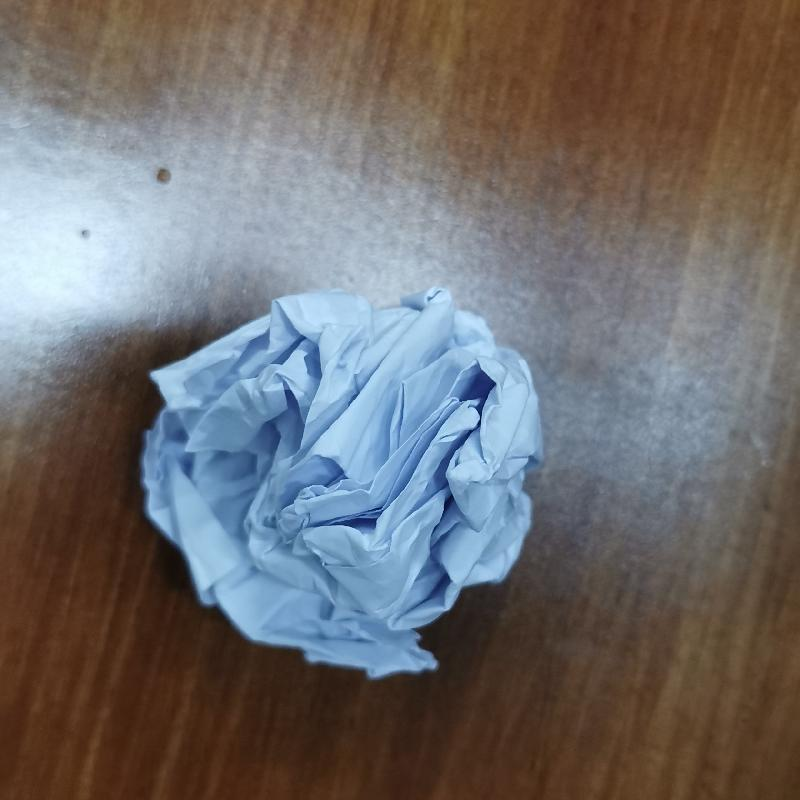spitball: (127, 279, 547, 690)
